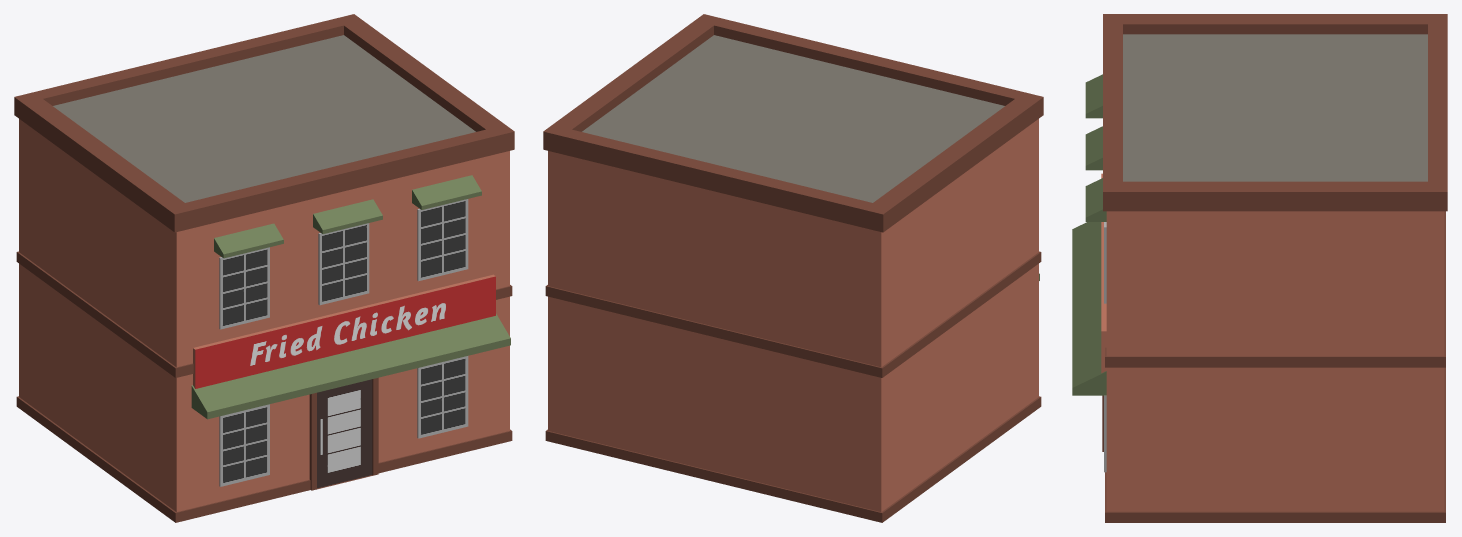
Rendered from Building_Chicken_Shop.glb.
3 renders of one model, left to right at view 1: azimuth 30°, elevation 25°; view 2: azimuth 150°, elevation 25°; view 3: azimuth 270°, elevation 25°, orthographic. The views are drawn at different scales.
Visible parts, largest first — view 1: Building_Chicken Shop; view 2: Building_Chicken Shop; view 3: Building_Chicken Shop.
Boxes of the visible parts, <box> form: Building_Chicken Shop: <box>14,14,514,522</box>; Building_Chicken Shop: <box>543,14,1043,522</box>; Building_Chicken Shop: <box>1072,14,1447,522</box>.
Bounding box in the file's own units: 11.22 × 9.76 × 10.
1 material, 1 textured.
